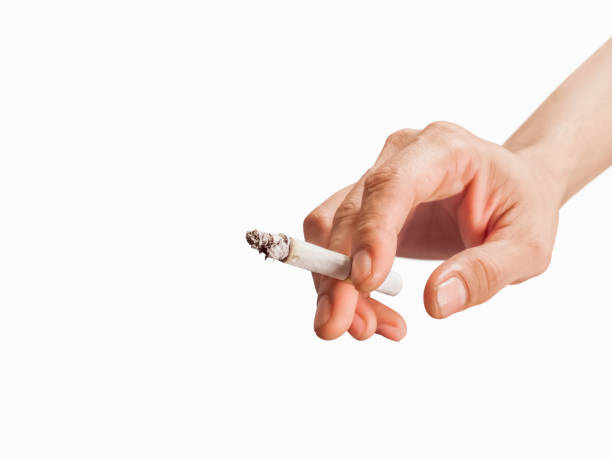cigarette: (244, 228, 404, 297)
